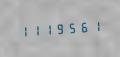five: (65, 19, 76, 35)
nine: (53, 20, 64, 36)
one: (17, 22, 28, 39), (89, 17, 100, 34), (29, 22, 40, 38), (41, 21, 52, 37)
six: (77, 18, 88, 34)
